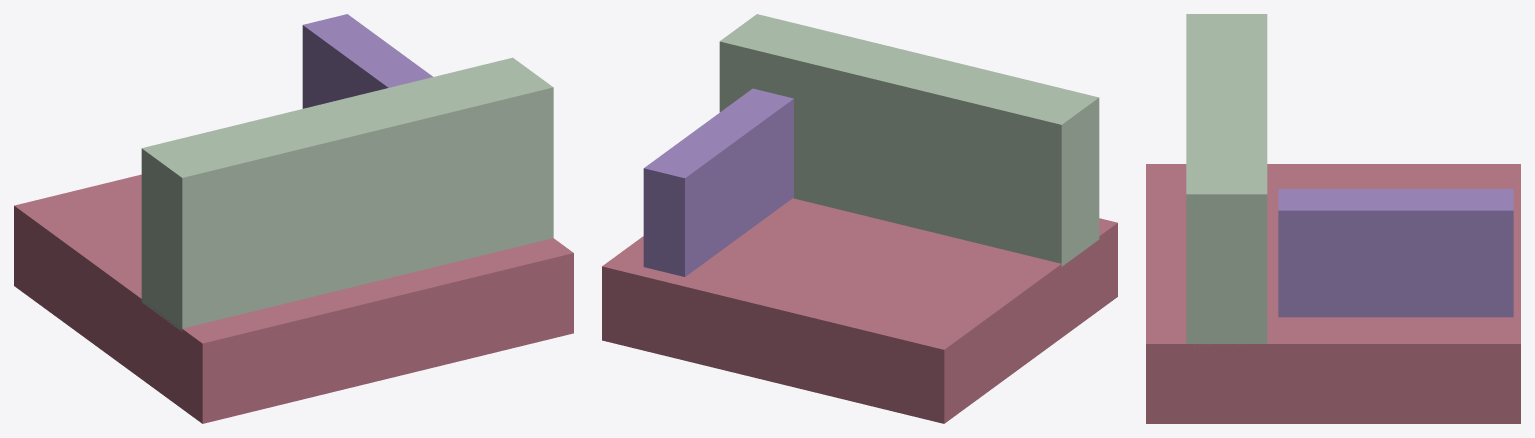
3 views of the same model, side by side, from view 1: azimuth 30°, elevation 25°; view 2: azimuth 150°, elevation 25°; view 3: azimuth 270°, elevation 25° (orthographic). The views are drawn at different scales.
Visible parts, largest first — view 1: world; view 2: world; view 3: world.
Boxes of the visible parts, left/top/right/bottom form: world: left=14, top=14, right=573, bottom=423; world: left=602, top=14, right=1117, bottom=423; world: left=1146, top=14, right=1520, bottom=423.
Bounding box in the file's own units: 5.8 × 3.45 × 5.1.
